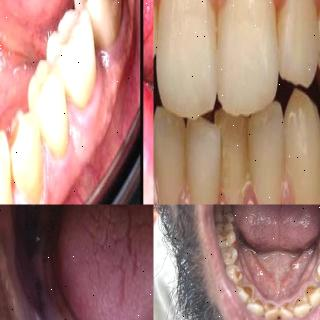Gum Swelling: (41, 0, 129, 178)
calculus: (242, 283, 258, 301), (302, 280, 315, 300), (290, 294, 302, 308), (252, 297, 266, 309), (284, 296, 292, 312), (264, 302, 274, 314)
cavities: (220, 205, 230, 219)
maligned: (279, 298, 295, 320), (266, 300, 280, 319)
stains: (216, 221, 237, 245), (289, 297, 307, 315), (305, 279, 320, 300), (232, 267, 246, 283), (242, 282, 256, 298), (279, 301, 291, 317), (254, 297, 264, 309), (314, 261, 320, 281), (227, 212, 235, 225), (233, 255, 243, 265), (268, 304, 274, 314)
